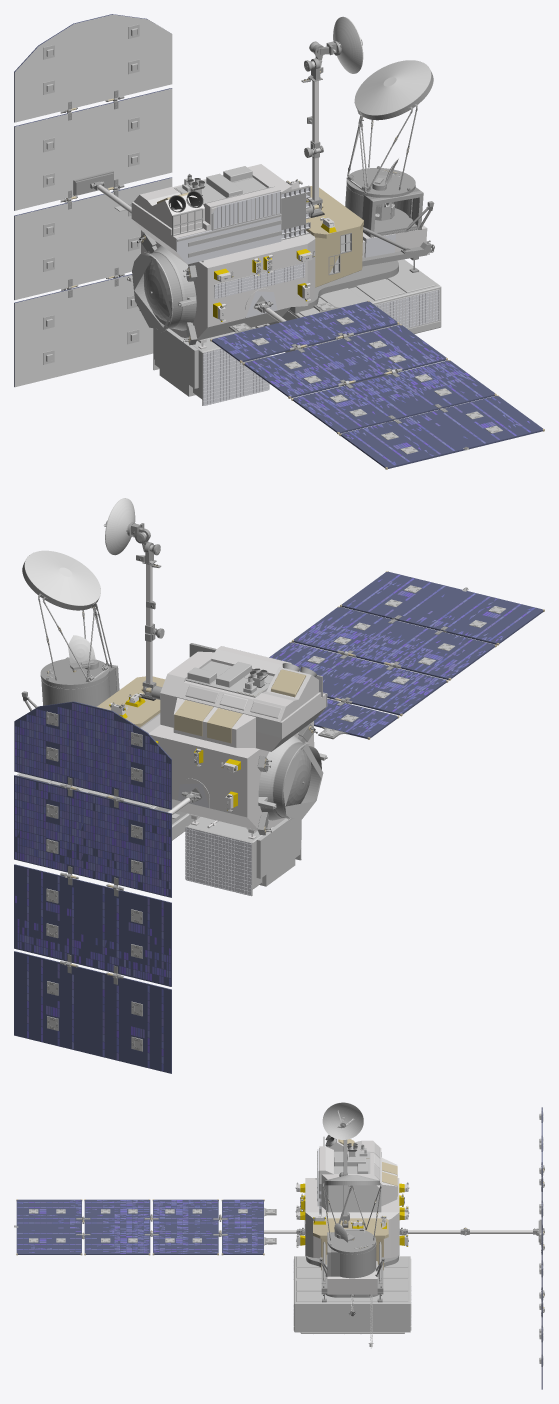
The model's file is global-precipitation-measurement.glb.
The picture shows the model from 3 angles, top to bottom: view 1: azimuth 30°, elevation 25°; view 2: azimuth 150°, elevation 25°; view 3: azimuth 270°, elevation 25°; orthographic projection. The views are drawn at different scales.
Parts seen in each view (by area): view 1: GPM-MainBus; view 2: GPM-MainBus; view 3: GPM-MainBus.
Part boxes in pixels (<box>): GPM-MainBus: <box>14,14,544,469</box>; GPM-MainBus: <box>14,498,544,1073</box>; GPM-MainBus: <box>14,1102,544,1389</box>.
Size of the model in its own units: 190 by 268 by 432.
